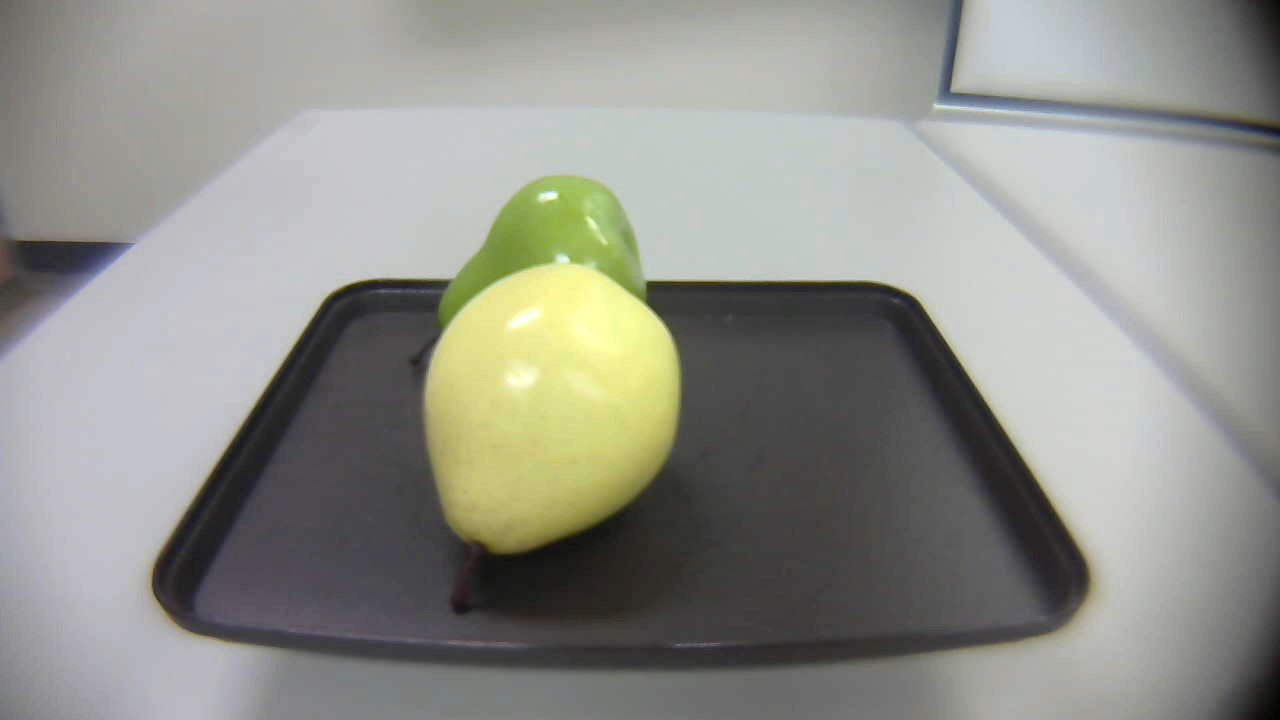green pear: (407, 171, 655, 380)
western pear: (402, 266, 689, 618)
